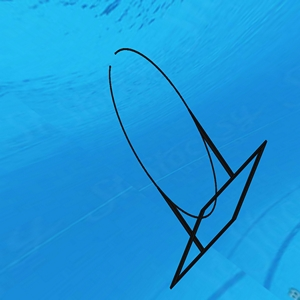circle: (106, 42, 272, 289)
